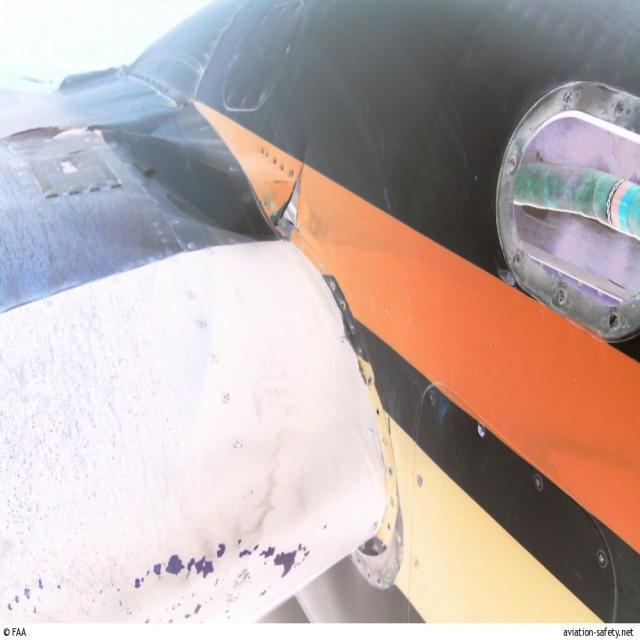crack: (270, 166, 305, 243)
